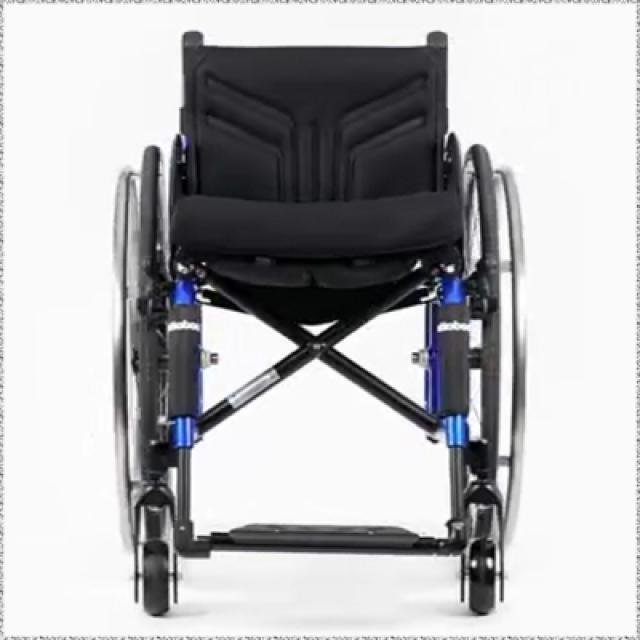wheelchairs: (113, 27, 532, 613)
